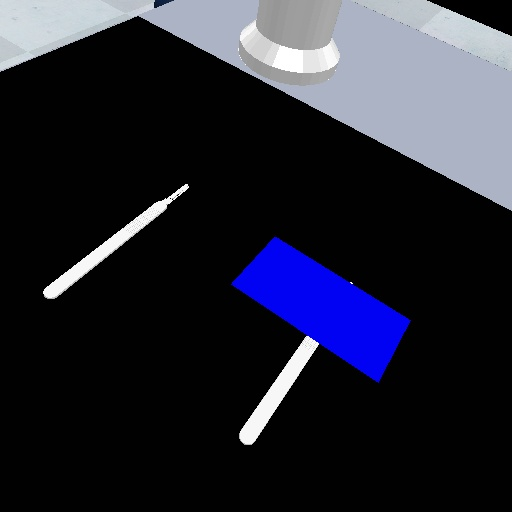bisturi: (39, 180, 192, 303), (236, 333, 324, 447)
